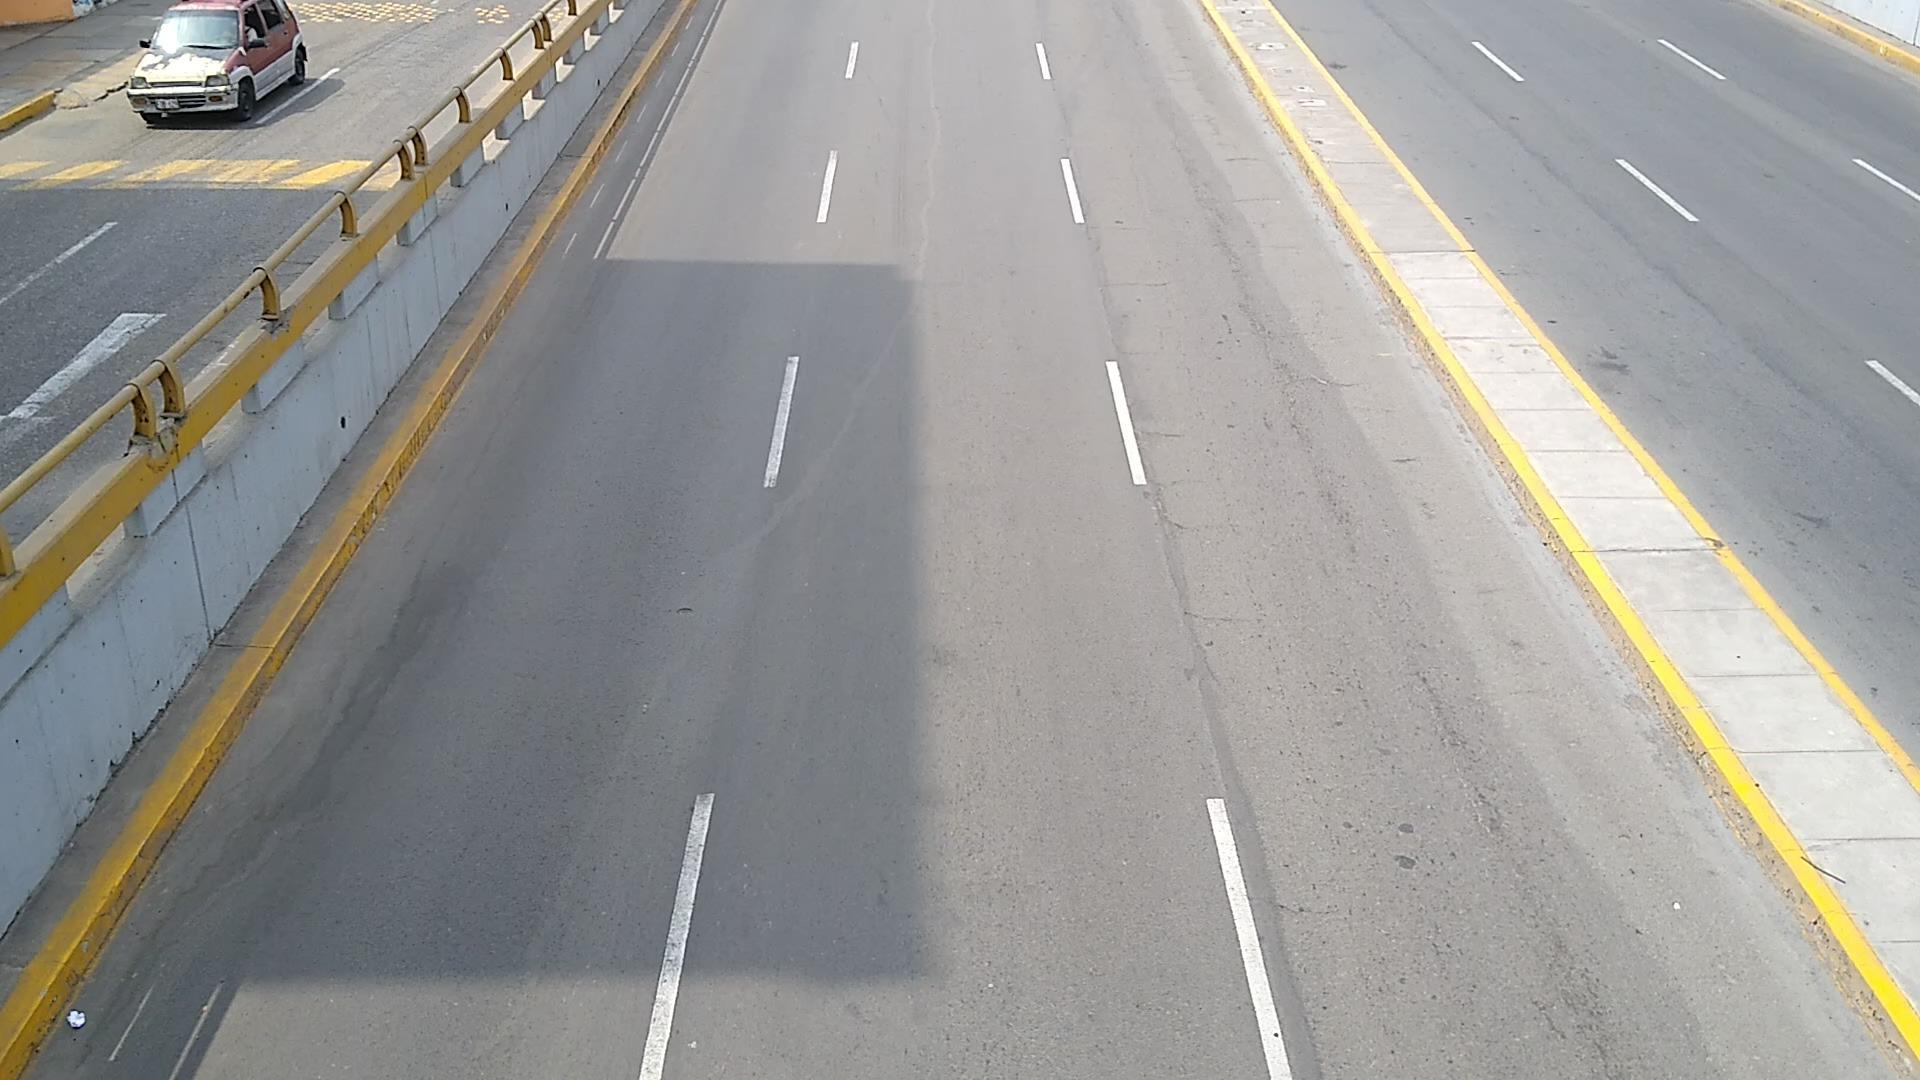car: (128, 0, 307, 124)
